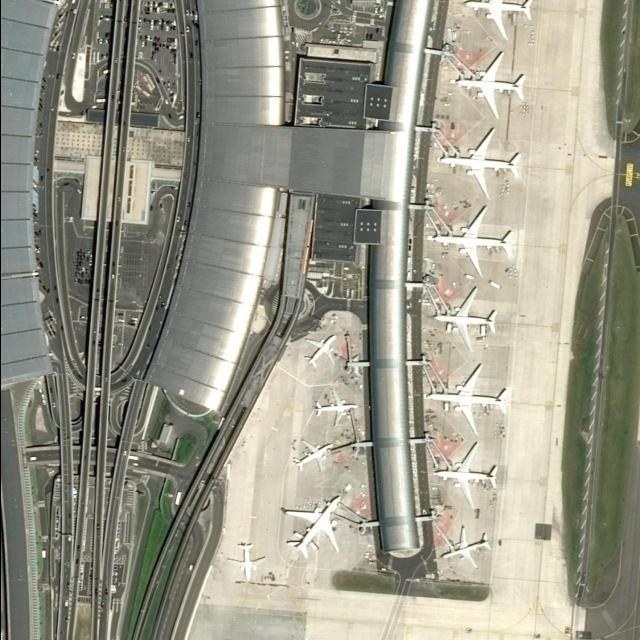Aircraft: (437, 127, 521, 200), (431, 207, 515, 277), (425, 365, 507, 434), (452, 51, 526, 118), (431, 443, 497, 511), (429, 285, 497, 351), (283, 495, 343, 561), (463, 1, 533, 41), (435, 525, 493, 570), (225, 538, 266, 582), (311, 388, 356, 427), (299, 332, 339, 370), (289, 439, 332, 473)
